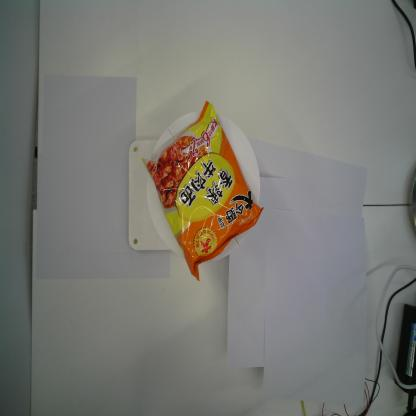Instant Noodles: (140, 98, 266, 282)
